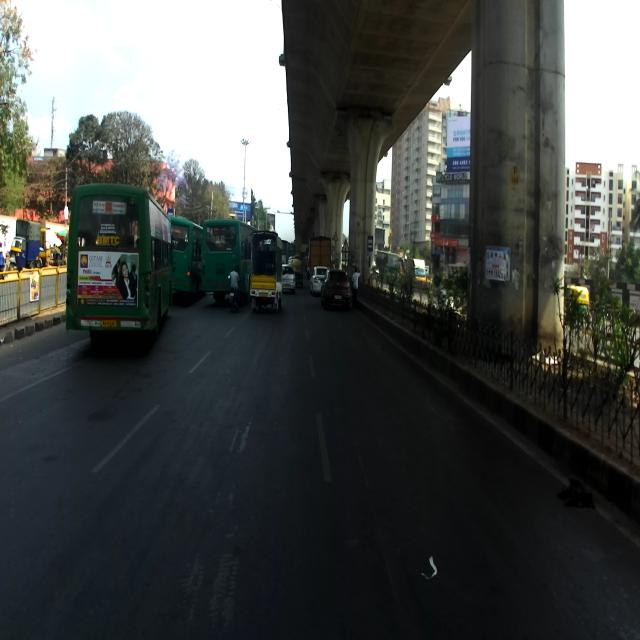bus ahead at: (65, 176, 176, 350), (198, 214, 245, 277)
car ahead at: (247, 226, 285, 311)
